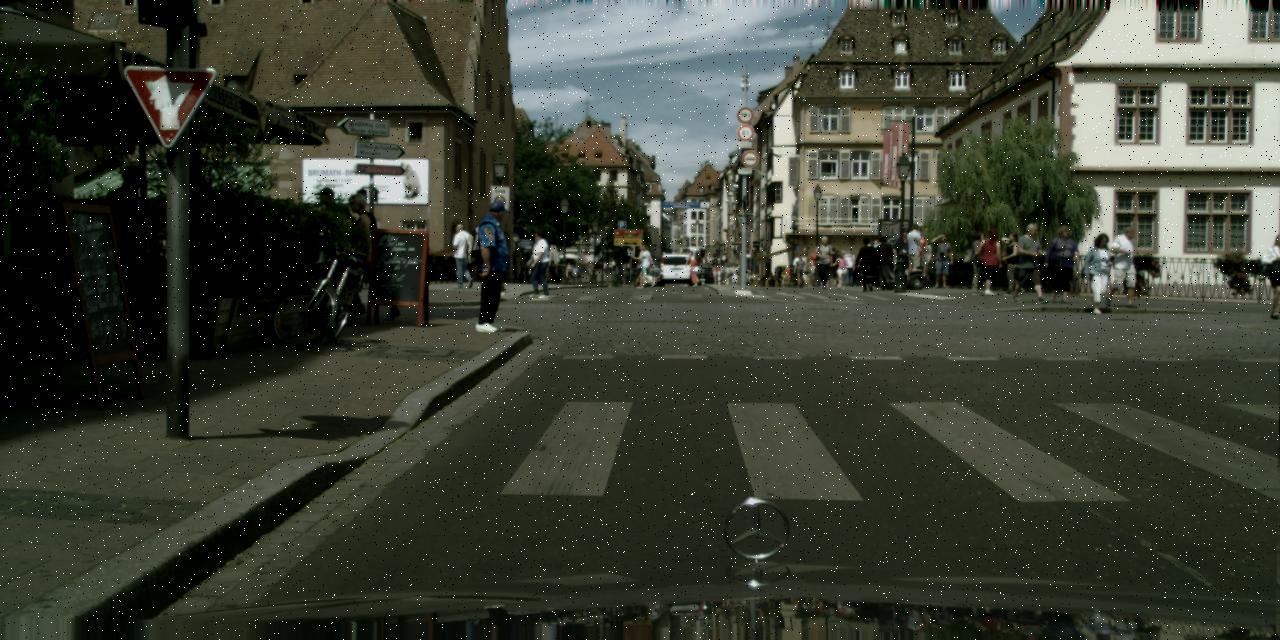ped: (89, 164, 165, 352), (464, 200, 518, 332), (317, 188, 368, 314), (340, 192, 390, 320), (1083, 232, 1117, 314), (1014, 222, 1047, 303), (1109, 226, 1141, 306), (1046, 225, 1078, 302), (478, 221, 508, 295), (524, 230, 552, 298), (978, 229, 1005, 296), (965, 230, 991, 296), (449, 223, 475, 288), (1000, 232, 1026, 296), (1260, 233, 1279, 318), (901, 223, 924, 279), (873, 236, 896, 290), (857, 237, 879, 292), (931, 234, 952, 288), (814, 236, 835, 290), (892, 227, 912, 276), (910, 227, 930, 276), (685, 242, 703, 288), (635, 244, 653, 288), (841, 247, 856, 285), (833, 252, 848, 288), (918, 240, 933, 276), (718, 262, 741, 284), (806, 250, 816, 288), (826, 264, 838, 287), (547, 259, 557, 284), (574, 262, 584, 284), (570, 264, 578, 284), (564, 262, 572, 280), (774, 266, 781, 284), (783, 266, 790, 283), (747, 272, 756, 284), (587, 260, 593, 277), (832, 248, 838, 263), (712, 264, 716, 284), (871, 240, 880, 248), (609, 260, 614, 274), (893, 249, 896, 269), (603, 261, 606, 272), (820, 280, 822, 288)
